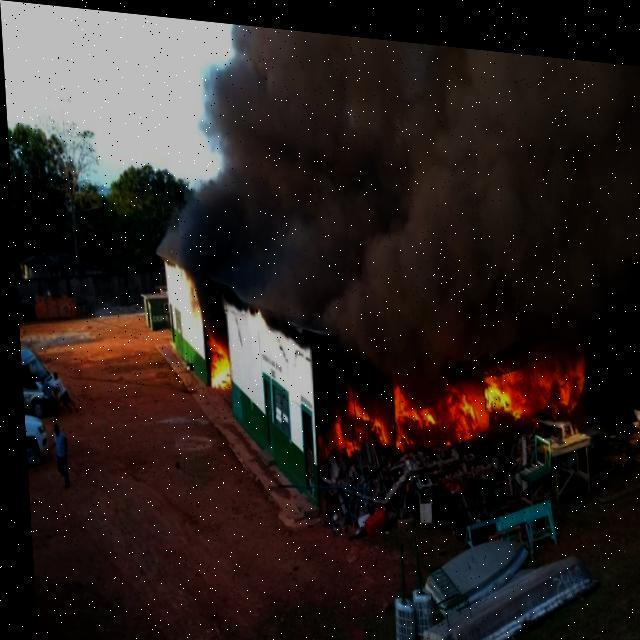Fire: (480, 322, 588, 436), (385, 362, 480, 460), (312, 366, 386, 464), (200, 329, 229, 392)
